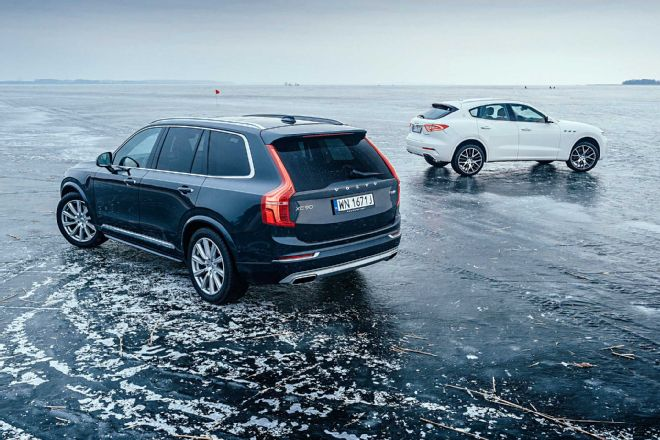car: (55, 114, 403, 302), (405, 99, 607, 177)
